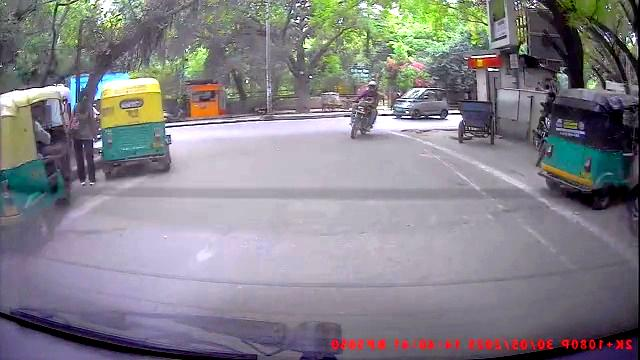motorcycle_with_helmet: (345, 79, 382, 140)
